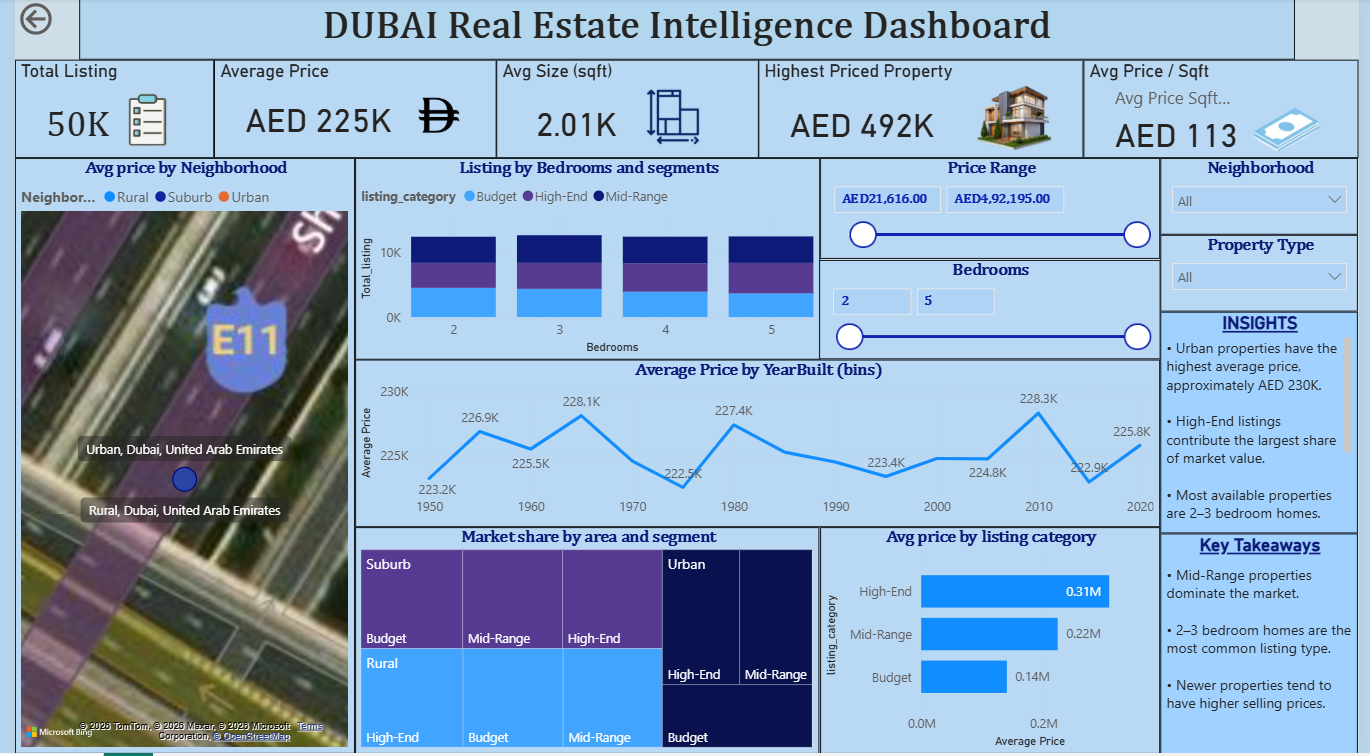

What the dashboard file says about the page in this screenshot:
{"tool":"powerbi","page":{"name":"Dashboard","canvas":[1280,720],"ordinal":0},"visuals":[{"type":"cardVisual","title":"Total Listing","fields":{"Data":["housing_price_dataset (1).Total_listing"]},"box":[0,58.8,189.6,93.6],"z":0},{"type":"cardVisual","title":"Average Price","fields":{"Data":["housing_price_dataset (1).Average Price Display"]},"box":[189.6,58.8,268.8,93.6],"z":1000},{"type":"cardVisual","title":"Avg Size (sqft)","fields":{"Data":["housing_price_dataset (1).Average size_sqft"]},"box":[458.5,58.8,249.6,93.6],"z":2000},{"type":"cardVisual","title":"Highest Priced Property","fields":{"Data":["housing_price_dataset (1).Highest Price Display"]},"box":[708.1,58.8,309.6,93.6],"z":3000},{"type":"cardVisual","title":"Avg Price / Sqft","fields":{"Data":["housing_price_dataset (1).Avg Price Sqft Display"]},"box":[1017.8,58.8,261.6,93.6],"z":4000},{"type":"map","title":"Avg price by Neighborhood","fields":{"Size":["housing_price_dataset (1).Average Price"],"Category":["housing_price_dataset (1).Map Location"],"Series":["housing_price_dataset (1).Neighborhood"]},"box":[0,152.4,324.1,567.7],"z":5000},{"type":"actionButton","box":[0,0,100,40],"z":6000},{"type":"barChart","title":"Avg price by listing category","fields":{"Category":["housing_price_dataset (1).listing_category"],"Y":["housing_price_dataset (1).Average Price"]},"box":[766.9,504.1,324.1,216],"z":7000},{"type":"columnChart","title":"Listing by Bedrooms and segments","fields":{"Category":["housing_price_dataset (1).Bedrooms"],"Y":["housing_price_dataset (1).Total_listing"],"Series":["housing_price_dataset (1).listing_category"]},"box":[324.1,152.4,442.9,192],"z":8000},{"type":"lineChart","fields":{"Category":["housing_price_dataset (1).YearBuilt (bins)"],"Y":["housing_price_dataset (1).Average Price"]},"box":[324.1,344.5,766.9,159.6],"z":9000},{"type":"treemap","title":"Market share by area and segment","fields":{"Values":["housing_price_dataset (1).Total_listing"],"Group":["housing_price_dataset (1).Neighborhood"],"Details":["housing_price_dataset (1).listing_category"]},"box":[324.1,504.1,441.7,216],"z":10000},{"type":"slicer","title":"Neighborhood","fields":{"Values":["housing_price_dataset (1).Neighborhood"]},"box":[1091,152.4,188.4,73.2],"z":11000},{"type":"slicer","title":"Property Type","fields":{"Values":["housing_price_dataset (1).listing_category"]},"box":[1091,225.6,188.4,73.2],"z":12000},{"type":"slicer","title":"Price Range","fields":{"Values":["housing_price_dataset (1).Price"]},"box":[766.9,152.4,324.1,96],"z":13000},{"type":"slicer","title":"Bedrooms","fields":{"Values":["housing_price_dataset (1).Bedrooms"]},"box":[765.7,249.6,325.3,94.8],"z":14000},{"type":"textbox","box":[61.2,0,1158.2,58.8],"z":15000},{"type":"textbox","title":"INSIGHTS","box":[1091,298.8,188.4,211.2],"z":16000},{"type":"textbox","title":"Key Takeaways","box":[1091,510.1,188.4,210],"z":17000}]}

Visuals, with their boxes in screenshot pixels (x1, y1, x2, y2), scaled from the page's 1280x720 canvas onto the 1370x756 screenshot:
"Total Listing" cardVisual: rect(0, 62, 203, 160)
"Average Price" cardVisual: rect(203, 62, 491, 160)
"Avg Size (sqft)" cardVisual: rect(491, 62, 758, 160)
"Highest Priced Property" cardVisual: rect(758, 62, 1089, 160)
"Avg Price / Sqft" cardVisual: rect(1089, 62, 1369, 160)
"Avg price by Neighborhood" map: rect(0, 160, 347, 755)
actionButton: rect(0, 0, 107, 42)
"Avg price by listing category" barChart: rect(821, 529, 1168, 755)
"Listing by Bedrooms and segments" columnChart: rect(347, 160, 821, 362)
lineChart - housing_price_dataset (1).YearBuilt (bins) x housing_price_dataset (1).Average Price: rect(347, 362, 1168, 529)
"Market share by area and segment" treemap: rect(347, 529, 820, 755)
"Neighborhood" slicer: rect(1168, 160, 1369, 237)
"Property Type" slicer: rect(1168, 237, 1369, 314)
"Price Range" slicer: rect(821, 160, 1168, 261)
"Bedrooms" slicer: rect(820, 262, 1168, 362)
textbox: rect(66, 0, 1305, 62)
"INSIGHTS" textbox: rect(1168, 314, 1369, 536)
"Key Takeaways" textbox: rect(1168, 536, 1369, 755)
